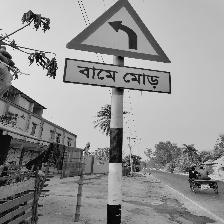Left-Turn: (65, 1, 172, 96)
